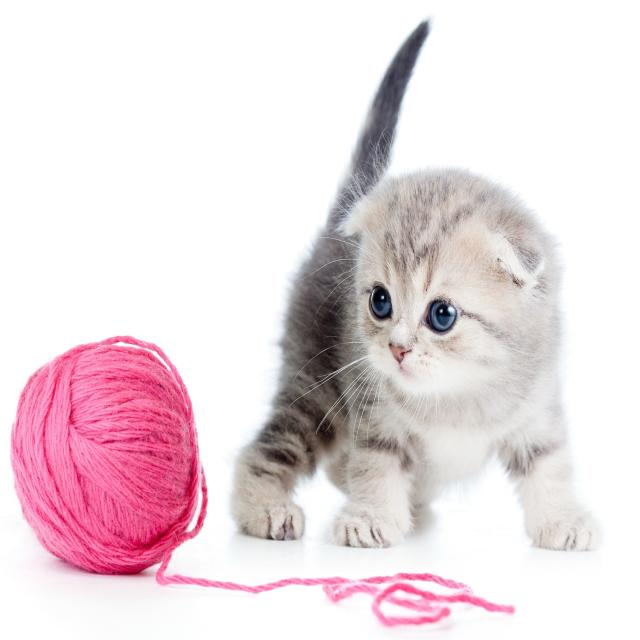Scottish Fold: (225, 9, 604, 558)
